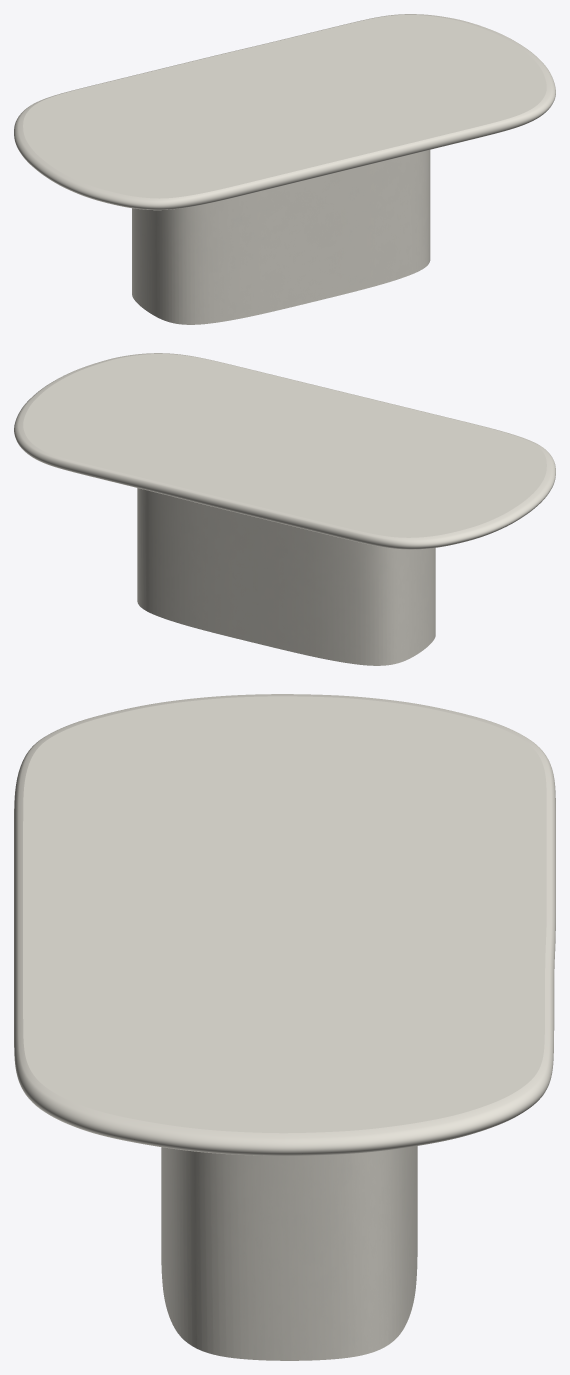
Rendered from pale_oval_round_fixed.glb.
3 views of the same model, one above another, from view 1: azimuth 30°, elevation 25°; view 2: azimuth 150°, elevation 25°; view 3: azimuth 270°, elevation 25° (orthographic). The views are drawn at different scales.
Parts seen in each view (by area): view 1: round_oval, fixed; view 2: round_oval, fixed; view 3: round_oval, fixed.
Part boxes in pixels (bbox=[...]): round_oval: bbox=[14, 14, 555, 210]; fixed: bbox=[132, 150, 430, 324]; round_oval: bbox=[14, 353, 555, 549]; fixed: bbox=[137, 488, 435, 665]; round_oval: bbox=[14, 694, 555, 1155]; fixed: bbox=[161, 1146, 417, 1360].
Size of the model in its own units: 7.5 by 2.5 by 3.8.
1 material, 1 textured.
